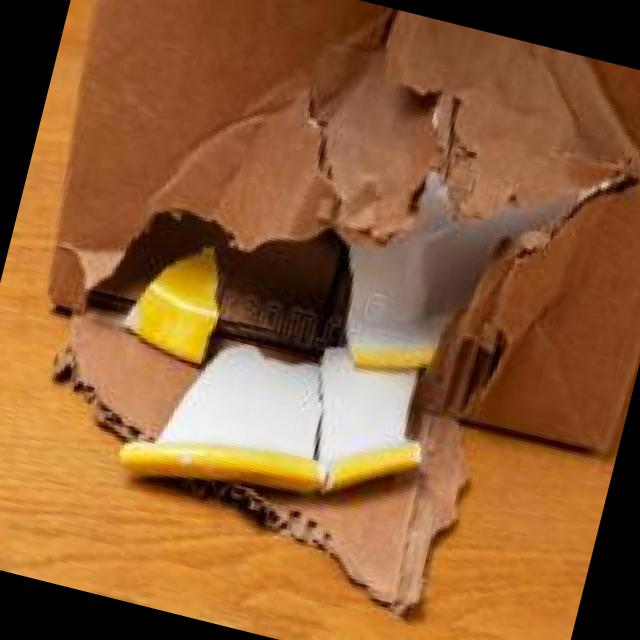box: (52, 1, 640, 616)
tear: (57, 86, 640, 609)
